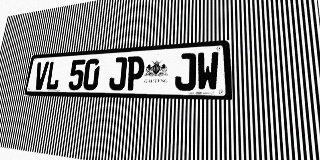0: (82, 58, 100, 90)
5: (68, 59, 86, 90)
J: (174, 53, 196, 91), (108, 57, 127, 90)
L: (45, 61, 62, 90)
P: (125, 56, 145, 90)
V: (33, 61, 49, 90)
W: (196, 51, 219, 91)
